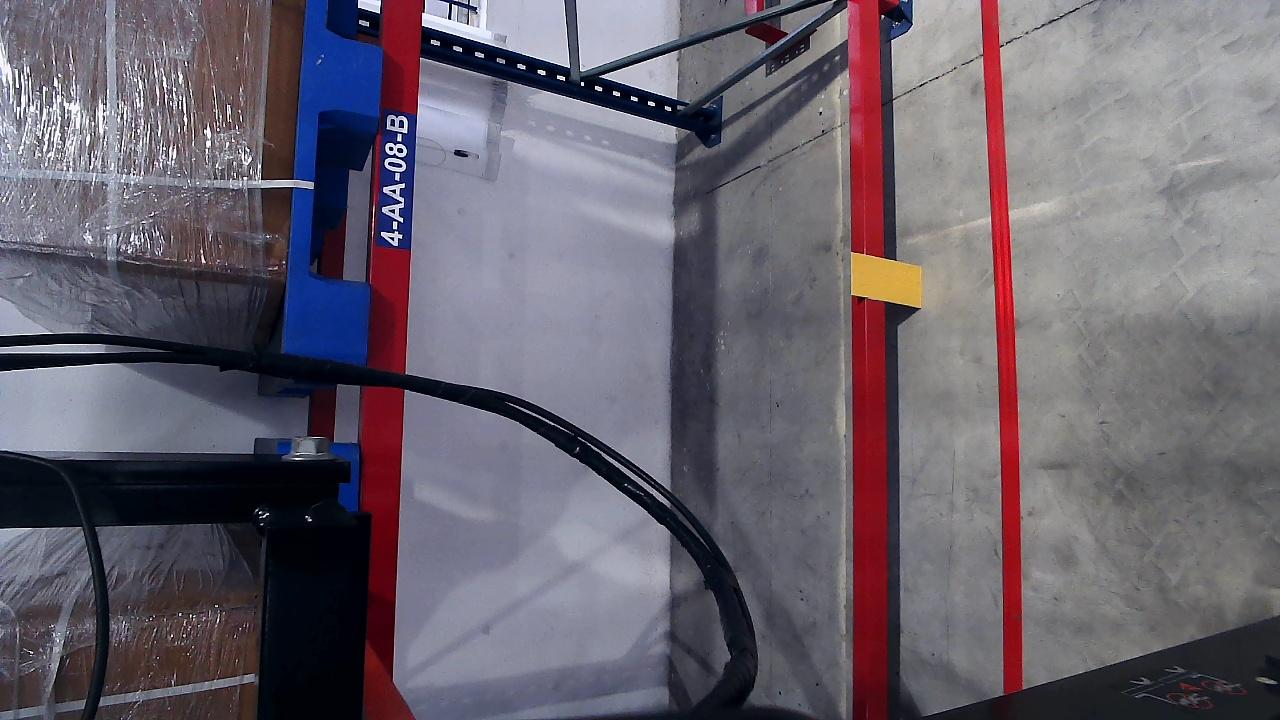h_rack: (848, 2, 893, 718), (367, 2, 429, 505)
orange_strip: (849, 253, 923, 307)
red_line: (989, 0, 1024, 698)
small_pallet: (279, 0, 390, 357)
